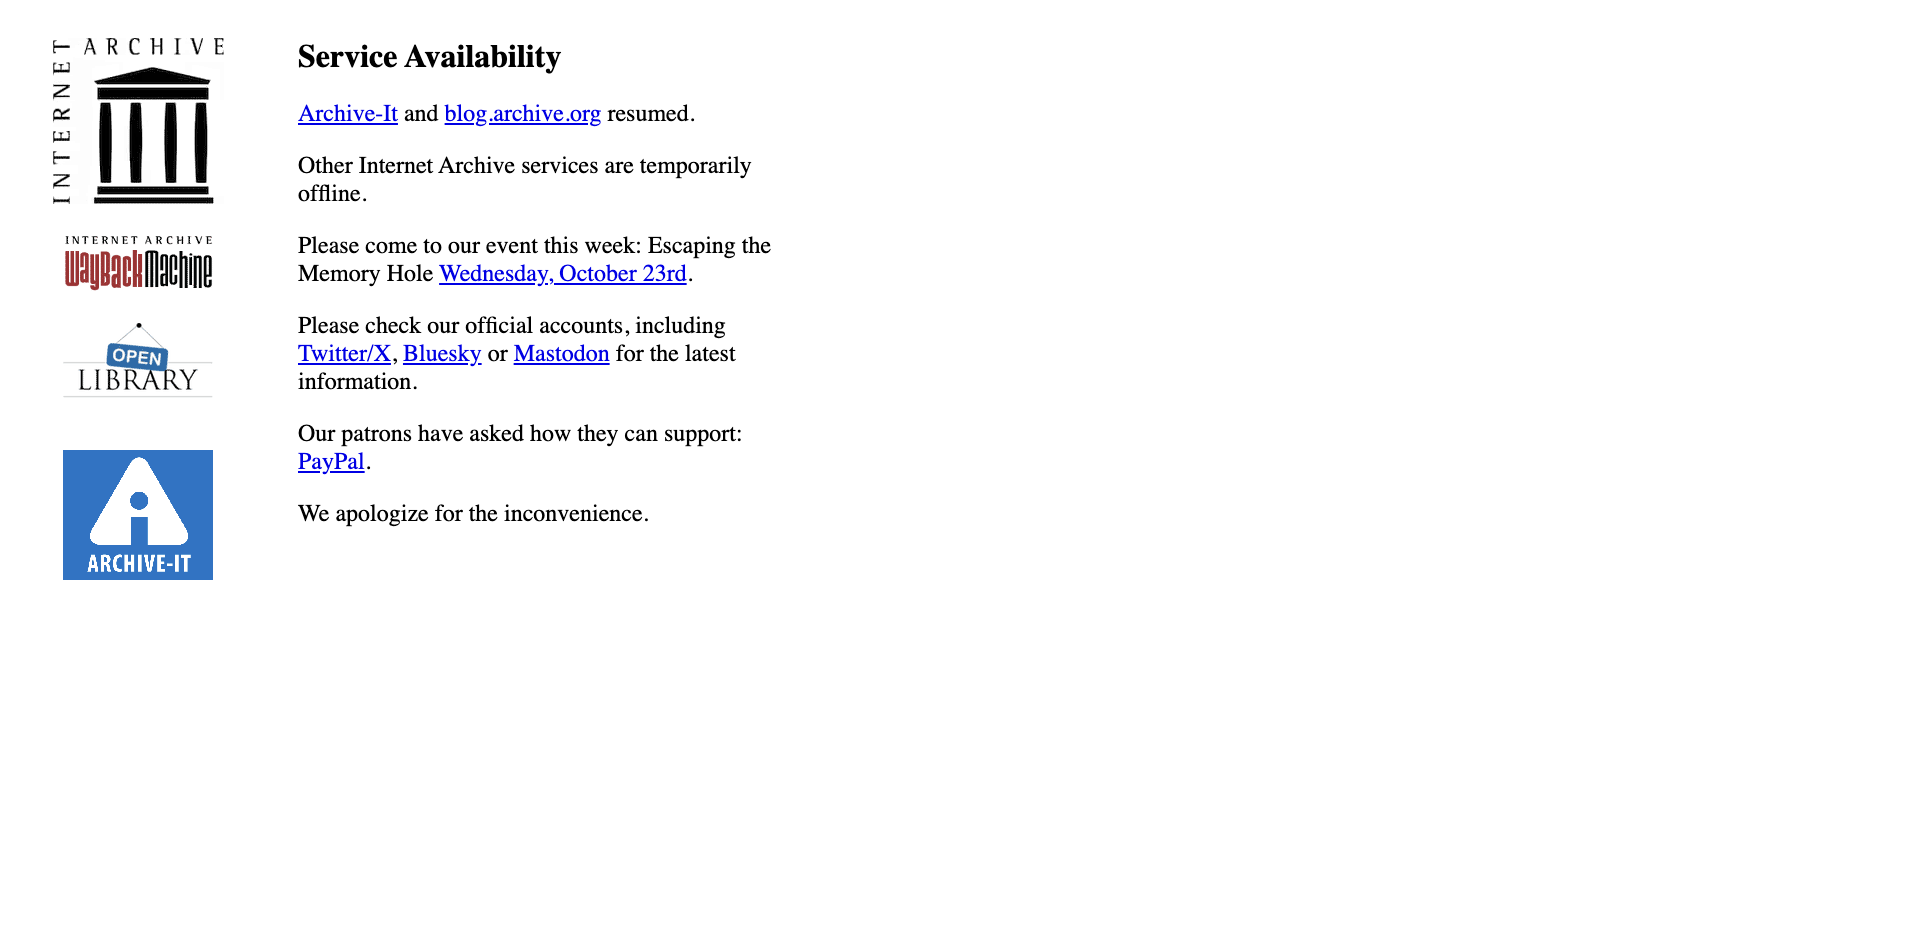link: (440, 259, 687, 287), (444, 99, 601, 127), (298, 99, 398, 127), (513, 339, 610, 368), (298, 339, 391, 368), (403, 339, 481, 368), (298, 447, 365, 475)
